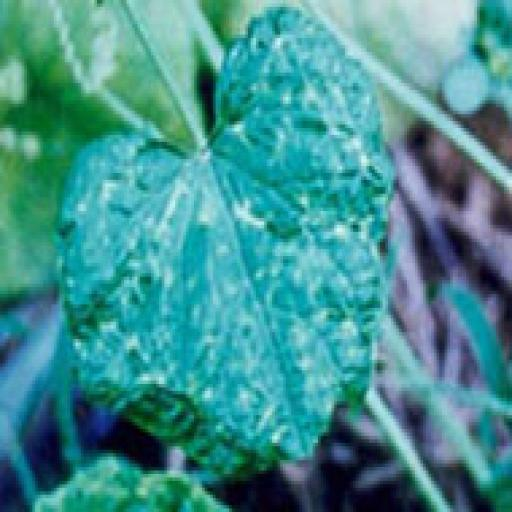Mosaic Virus: (62, 31, 391, 471)
